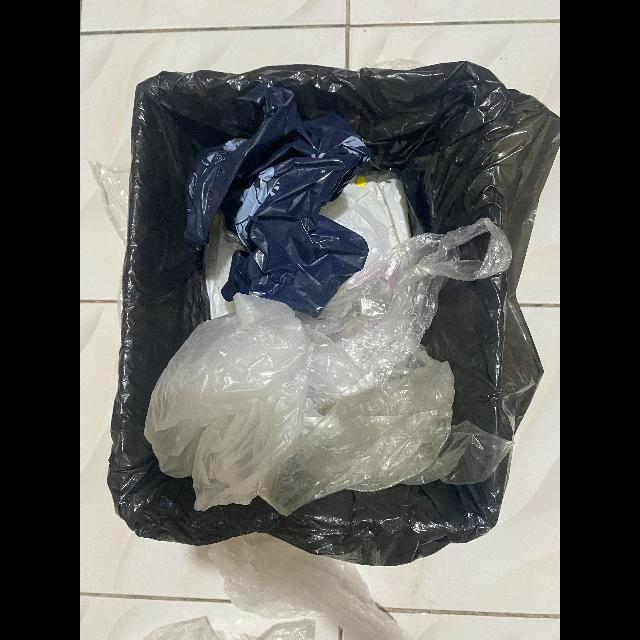plastic_bag: (144, 220, 514, 519), (186, 94, 369, 317), (203, 534, 408, 640)
